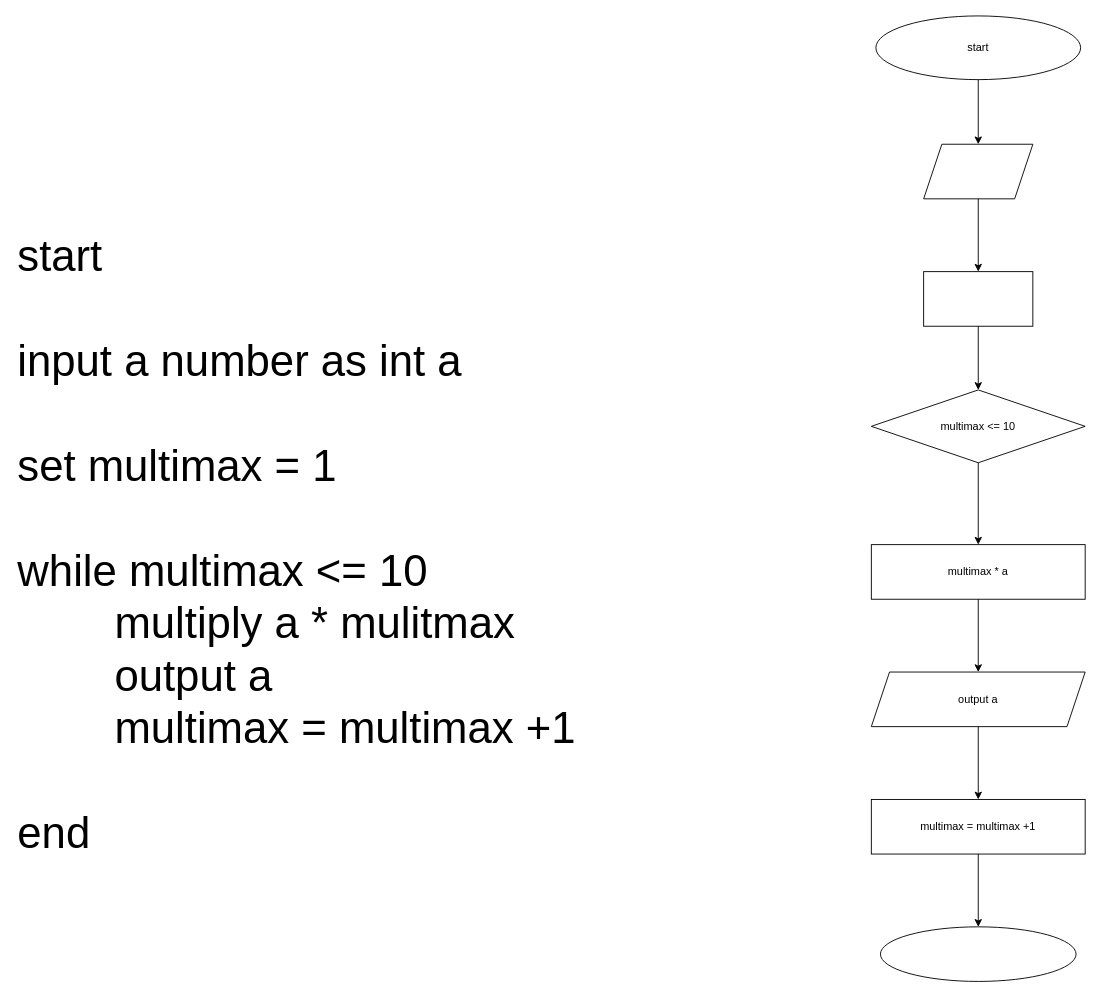
Image size: 1101x997. Some labels were removed from this diagram. Here are the shapes that lost their labels. From the top down, the centre of each, then its label:
(x=978, y=171): input a
(x=978, y=298): set multimax = 1
(x=978, y=953): end
